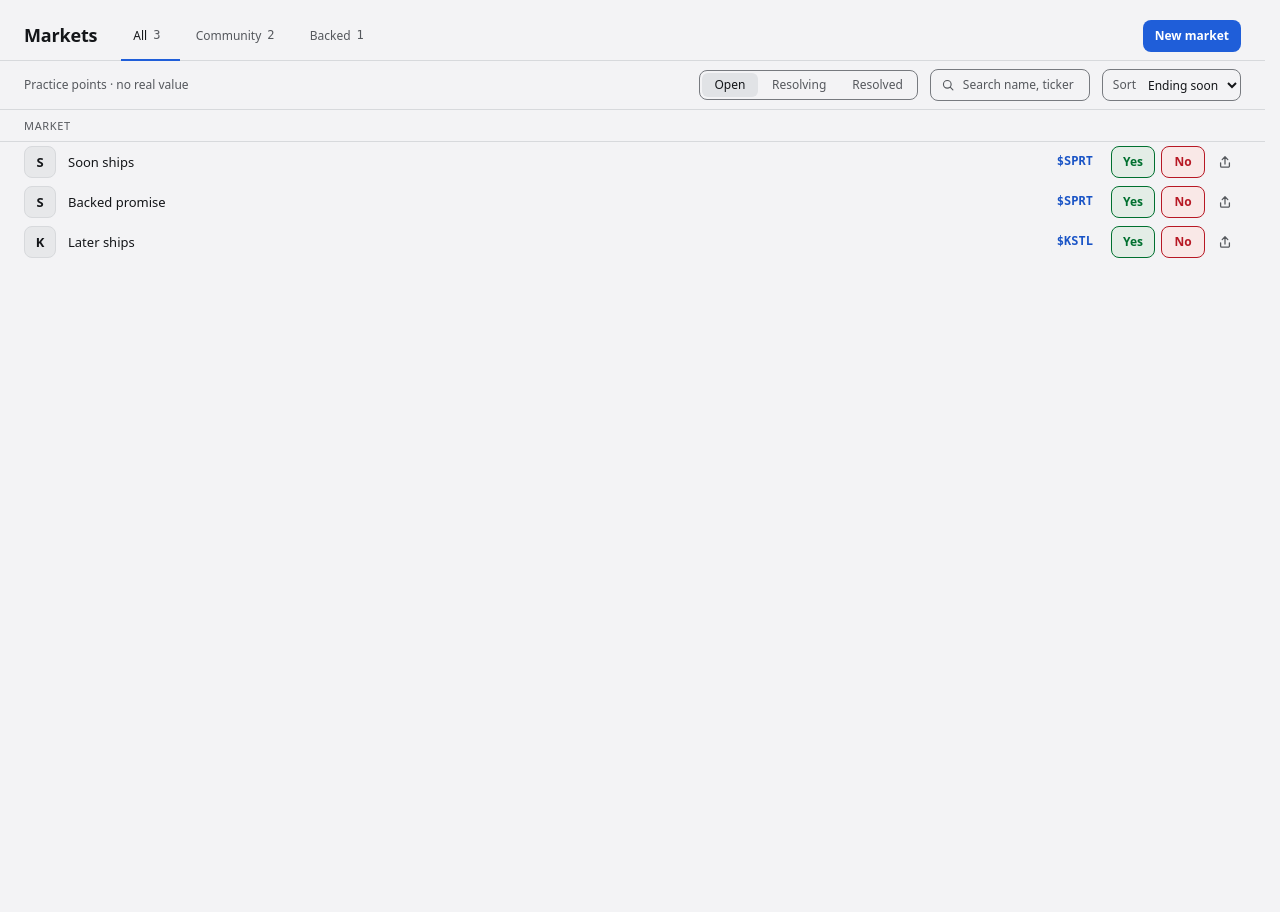
Test: share from a row › copies the short link and says so
Press Enter in the button named "Share:", box x1=1209 y1=146 x2=1241 y2=178
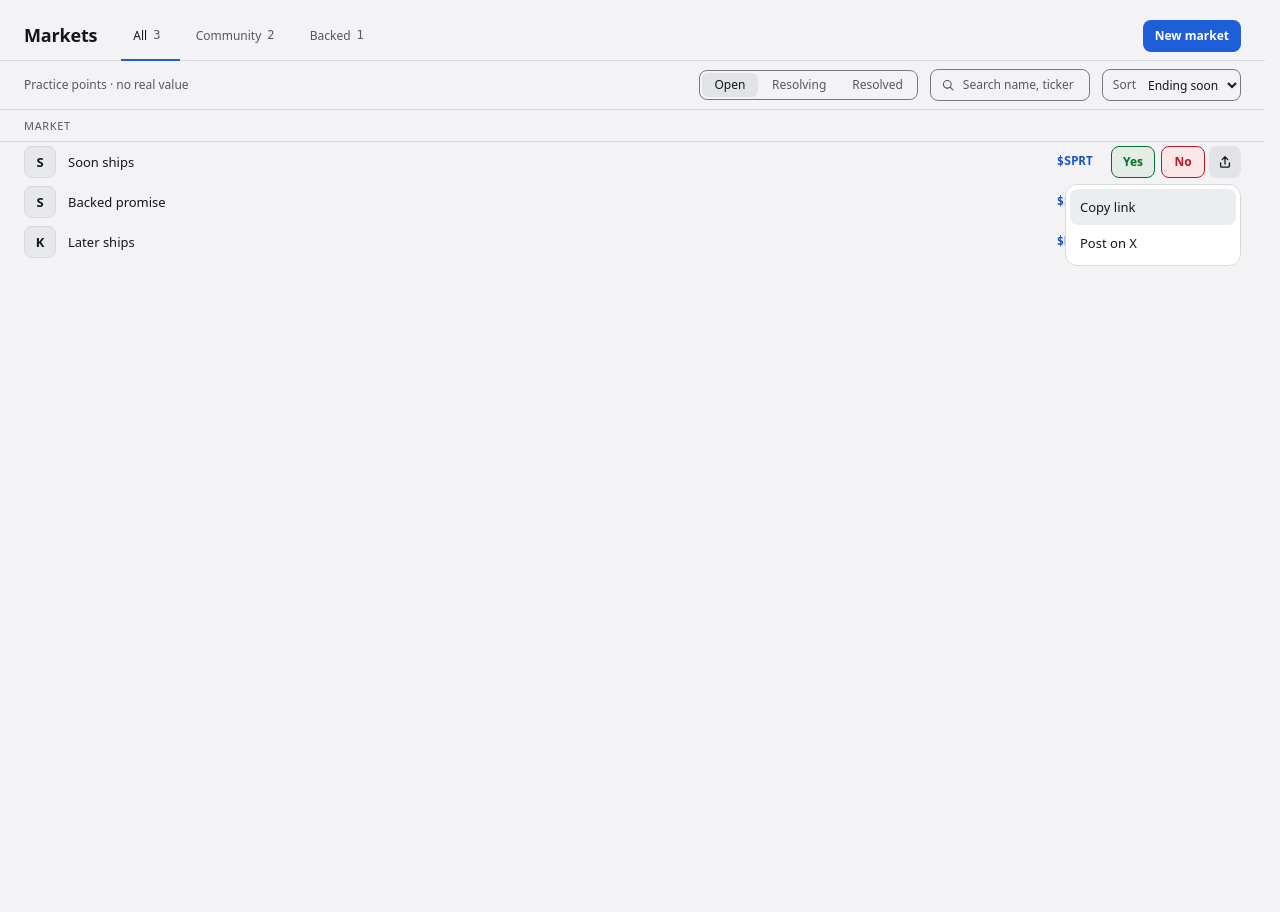
Click the menu item "Copy link" at coordinates (1153, 207), box x1=1070 y1=189 x2=1236 y2=225
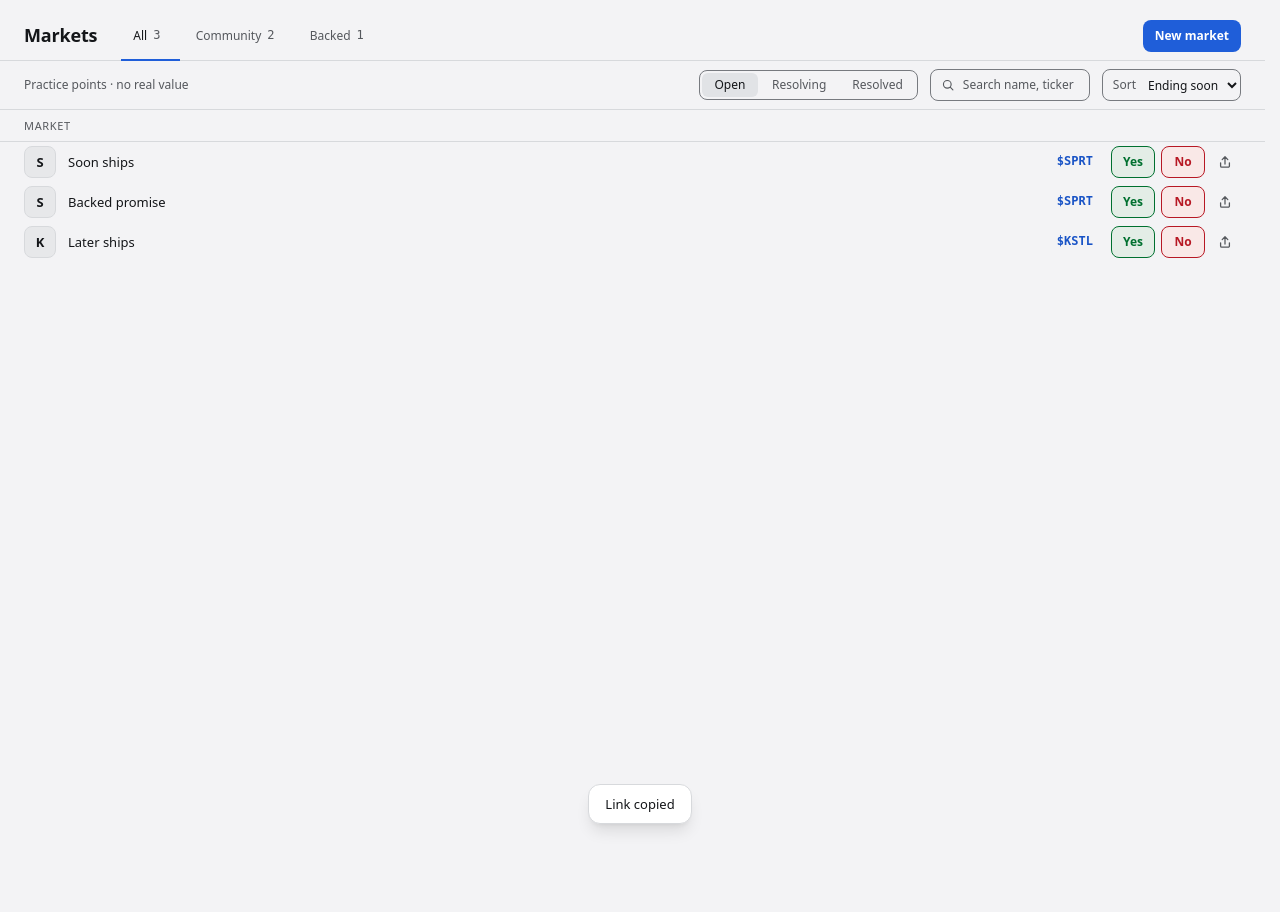
Result: the text "Link copied" is shown at x1=605 y1=795 x2=675 y2=813
